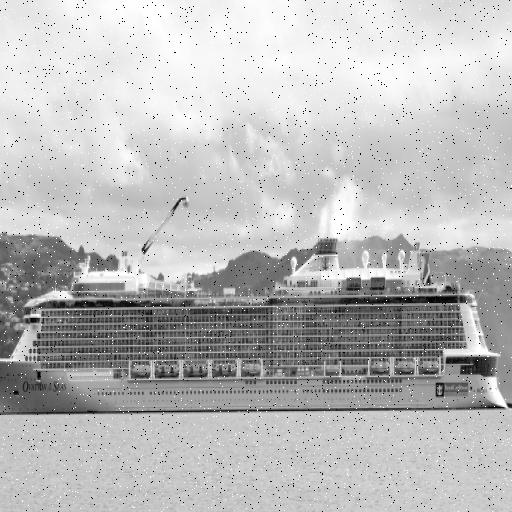cruises: (1, 233, 512, 417)
